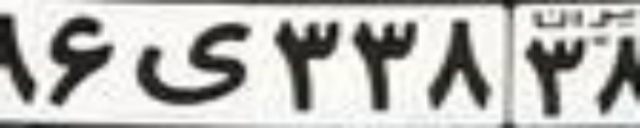3: (351, 19, 415, 112), (273, 19, 337, 111), (521, 37, 586, 116)
6: (45, 16, 116, 105)
8: (426, 19, 493, 110), (597, 35, 638, 112), (1, 16, 32, 104)
ye: (132, 21, 259, 107)
